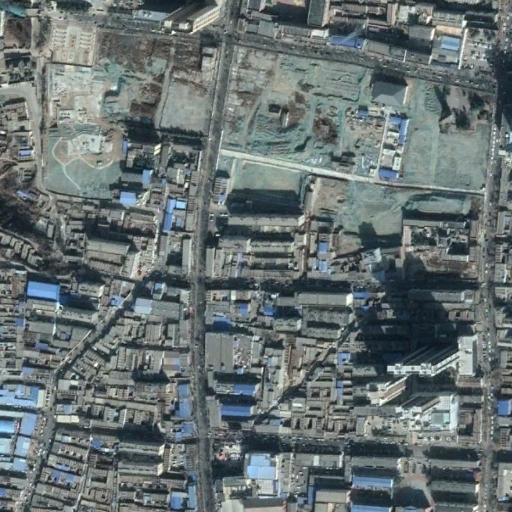cw: (217, 46, 491, 257), (40, 27, 216, 202)
